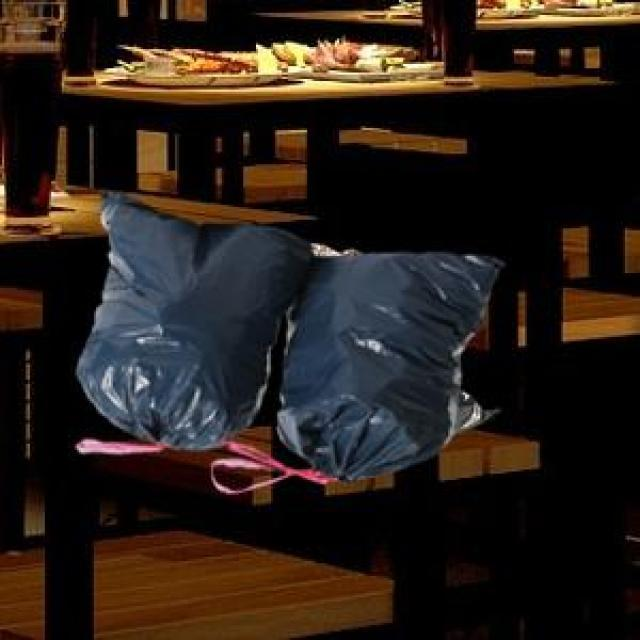miscellaneous trash: (73, 188, 499, 480), (307, 241, 495, 433)
